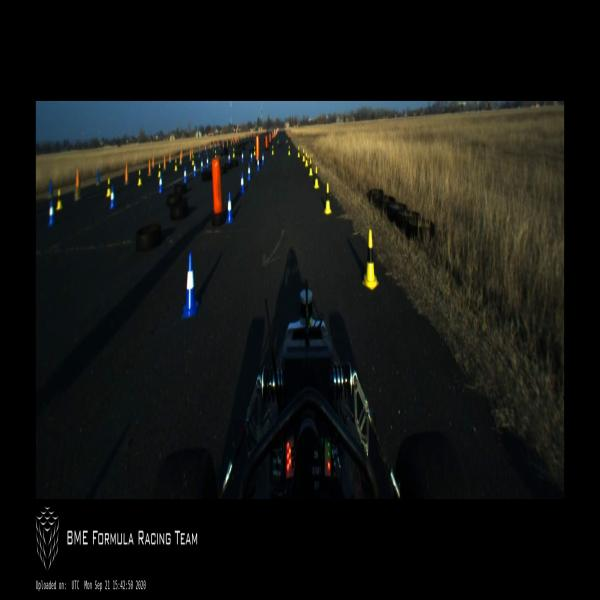blue_cone: (182, 252, 199, 322), (226, 191, 233, 224), (48, 199, 54, 228), (109, 186, 115, 209), (158, 173, 164, 193), (183, 165, 188, 184), (240, 172, 244, 194), (247, 162, 251, 182), (256, 157, 260, 172), (193, 162, 196, 177), (200, 159, 203, 174), (250, 150, 253, 163), (241, 150, 244, 163), (206, 156, 209, 169), (262, 151, 264, 166), (228, 150, 230, 164)
yellow_cone: (362, 228, 378, 291), (323, 182, 332, 216), (314, 166, 320, 190), (56, 188, 62, 210), (105, 178, 110, 198), (309, 157, 313, 176), (138, 169, 142, 186), (214, 150, 218, 164), (232, 147, 236, 159), (305, 151, 308, 166), (302, 149, 305, 163), (174, 158, 177, 172), (297, 146, 300, 158), (191, 154, 194, 166), (158, 163, 160, 177), (253, 147, 256, 156), (288, 144, 290, 156), (272, 145, 274, 156)
